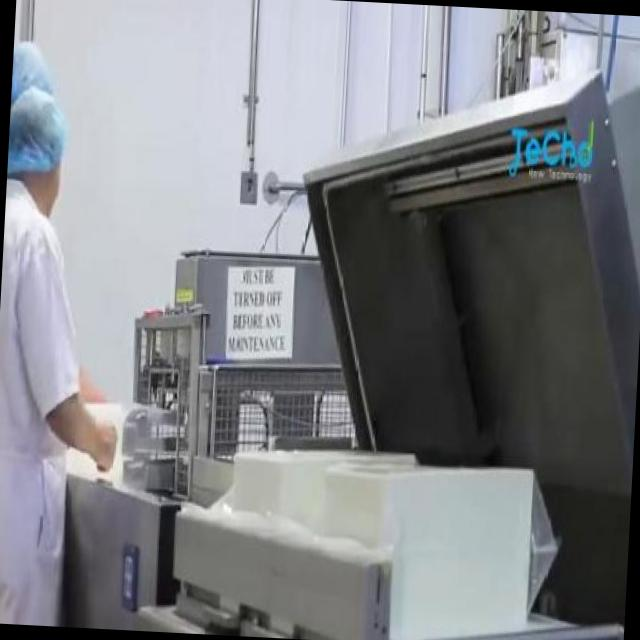hairnet: (8, 82, 68, 172), (12, 40, 54, 86)
